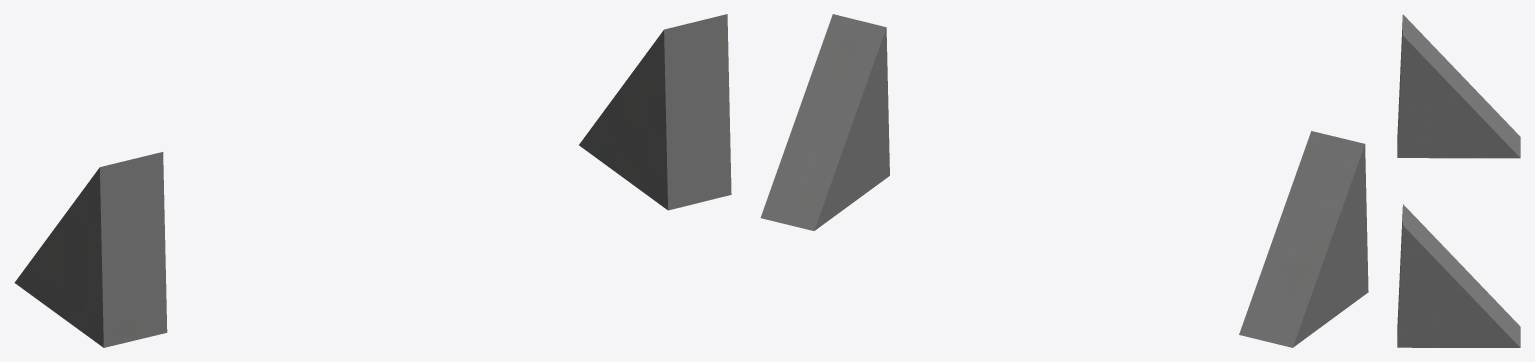
Rendered from Top_Decoration_Stair.fbx.
The picture shows the model from 3 angles, left to right: view 1: azimuth 30°, elevation 25°; view 2: azimuth 150°, elevation 25°; view 3: azimuth 270°, elevation 25°; orthographic projection. The views are drawn at different scales.
Parts seen in each view (by area): view 1: Top Decoration_Stair; view 2: Top Decoration_Stair; view 3: Top Decoration_Stair.
Boxes of the visible parts, x1,y1,x2,y2 form: Top Decoration_Stair: [14, 14, 731, 347]; Top Decoration_Stair: [760, 14, 1368, 347]; Top Decoration_Stair: [1397, 14, 1520, 347].
Size of the model in its own units: 100 by 27.13 by 24.66.
